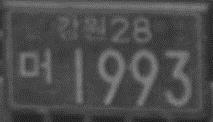1: (65, 48, 89, 101)
2: (110, 16, 131, 44)
3: (163, 49, 193, 106)
8: (132, 17, 152, 43)
9: (129, 48, 159, 106), (97, 47, 125, 106)
강원_O: (55, 14, 107, 42)
머: (18, 47, 53, 85)
